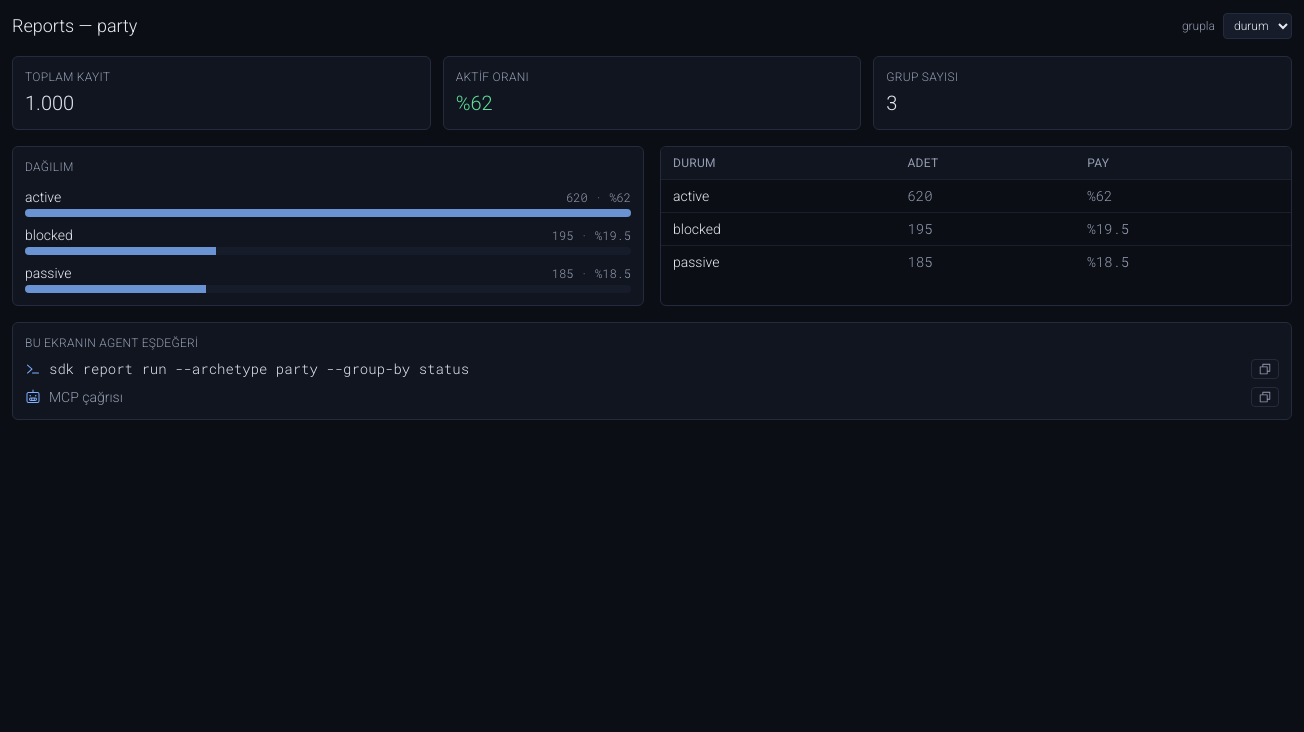
it: Reports ekranı › grupla seçimi dağılımı değiştirir; özet kartları var
Check: the text "toplam kayıt" is shown, box [25,70,110,84]
Select "şehir" in the dropdown labelled "grupla". click: (1258, 26)
box: [1223,13,1292,39]
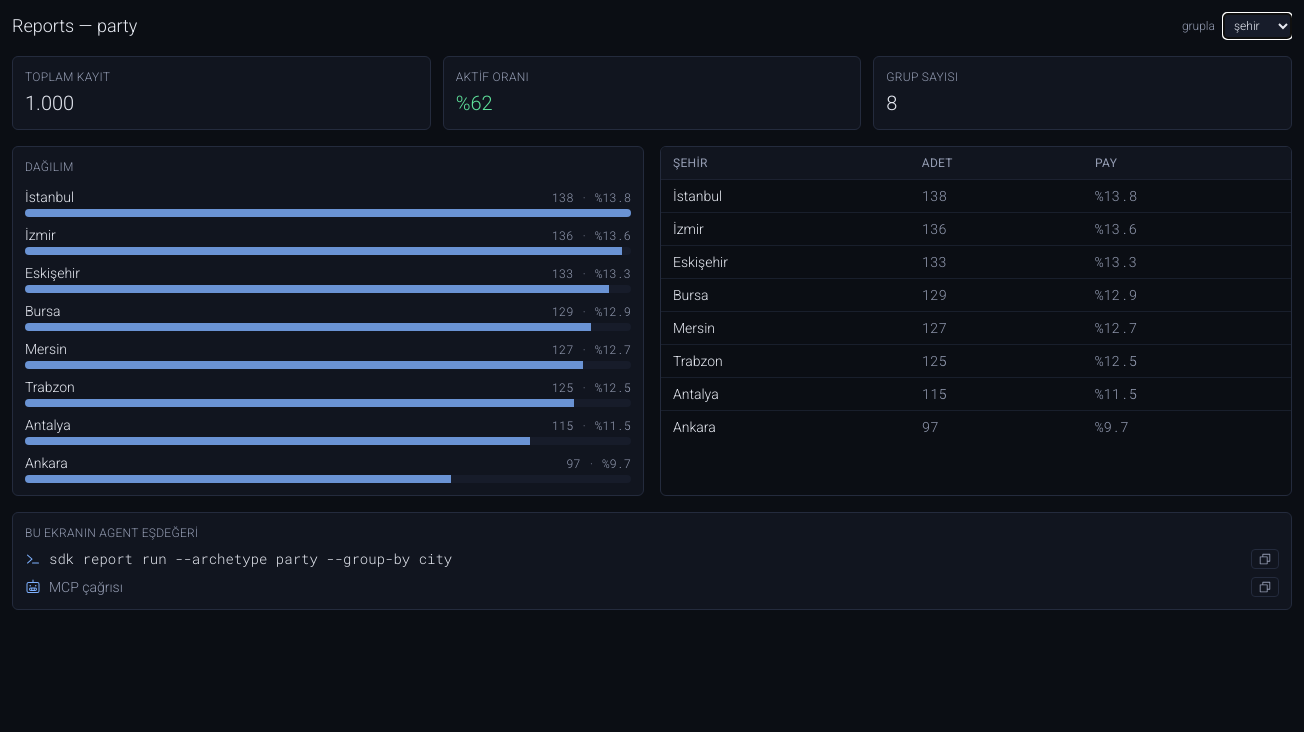
Check: the text "sdk report run --archetype party --group-by city" is shown, box [49,549,452,568]
Check: the text "İstanbul" is shown, box [25,187,74,207]
